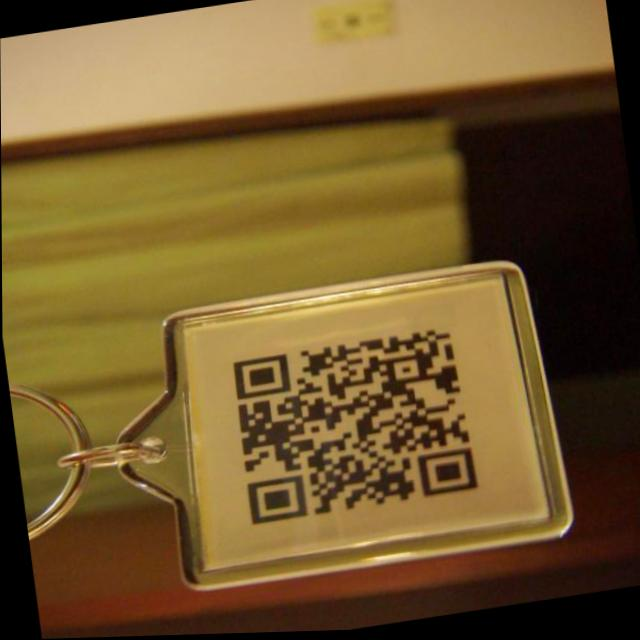qrcode: (229, 327, 478, 526)
